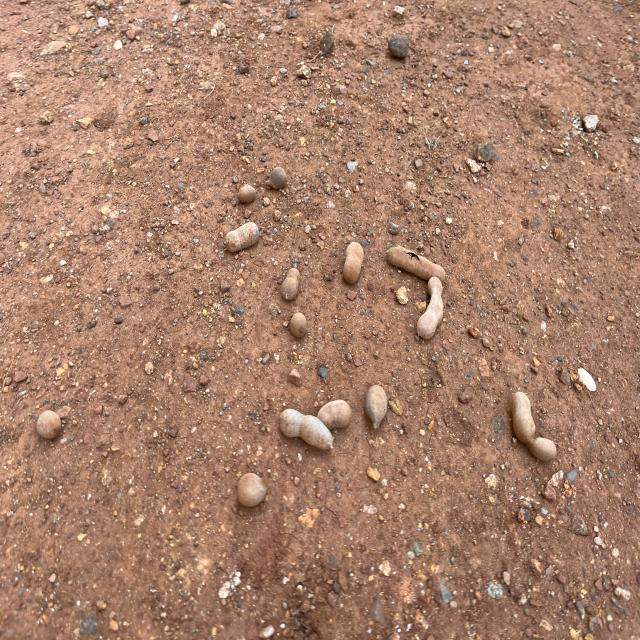tamarind: (512, 390, 556, 462), (280, 407, 335, 451), (386, 244, 446, 281), (418, 277, 442, 340), (315, 398, 351, 431), (225, 221, 260, 253), (238, 472, 267, 508), (366, 383, 388, 430), (342, 241, 364, 283), (38, 411, 62, 440), (281, 268, 300, 300), (266, 164, 288, 189), (290, 312, 308, 340), (236, 183, 258, 204)
